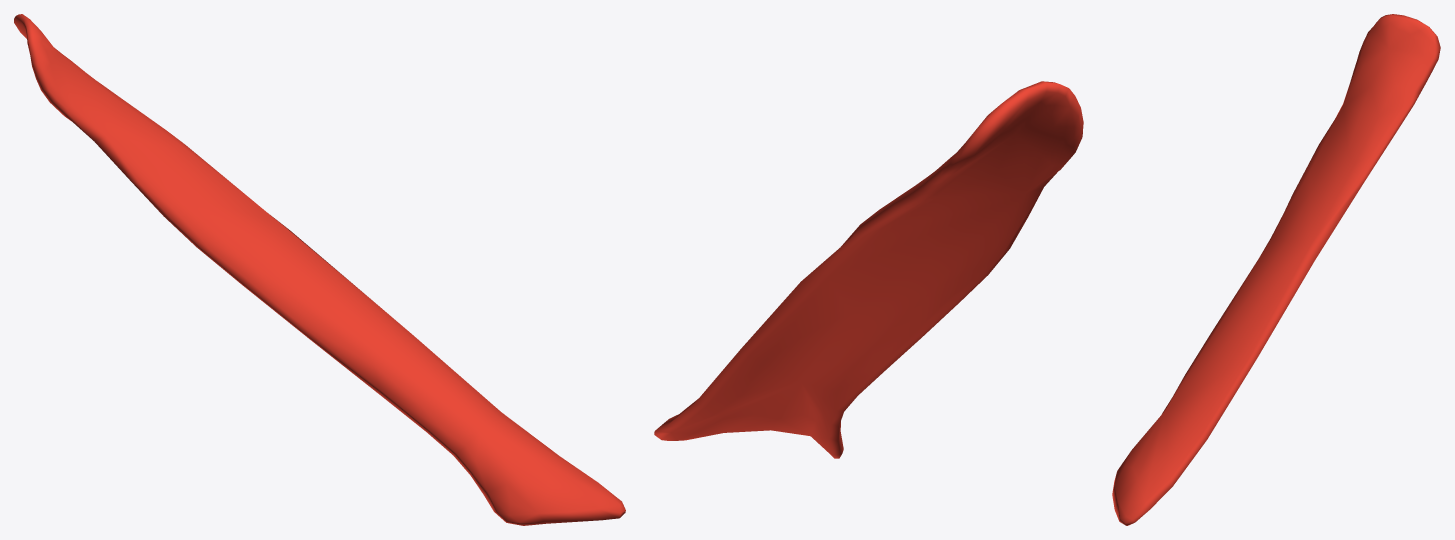
The model's file is Deep_head_of_flexor_pollicis_brevis_on_1st_metacarpal_bone.l_Ge.glb.
The picture shows the model from 3 angles, left to right: view 1: azimuth 30°, elevation 25°; view 2: azimuth 150°, elevation 25°; view 3: azimuth 270°, elevation 25°; orthographic projection. The views are drawn at different scales.
Parts seen in each view (by area): view 1: Deep_head_of_flexor_pollicis_brevis_on_1st_metacarpal_bone.l; view 2: Deep_head_of_flexor_pollicis_brevis_on_1st_metacarpal_bone.l; view 3: Deep_head_of_flexor_pollicis_brevis_on_1st_metacarpal_bone.l.
Part boxes in pixels (x1=…): Deep_head_of_flexor_pollicis_brevis_on_1st_metacarpal_bone.l: x1=14, y1=14, x2=625, y2=525; Deep_head_of_flexor_pollicis_brevis_on_1st_metacarpal_bone.l: x1=654, y1=81, x2=1083, y2=458; Deep_head_of_flexor_pollicis_brevis_on_1st_metacarpal_bone.l: x1=1112, y1=14, x2=1440, y2=525.
Size of the model in its own units: 0.0197 by 0.0202 by 0.0169.
